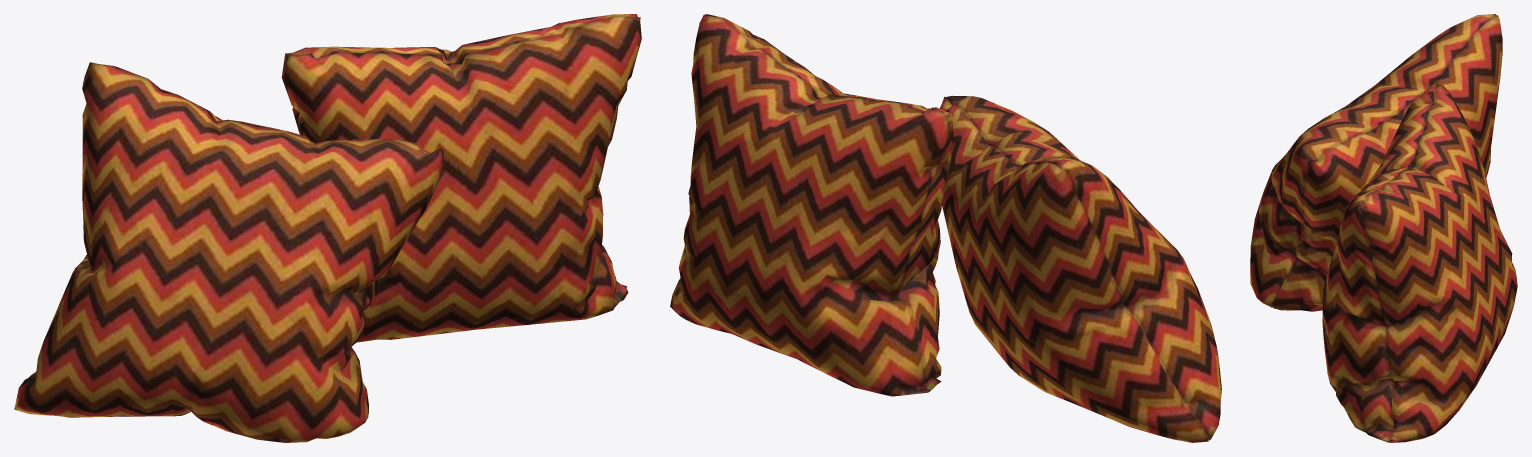
File: throw_pillows_01.glb
3 views of the same model, side by side, from view 1: azimuth 30°, elevation 25°; view 2: azimuth 150°, elevation 25°; view 3: azimuth 270°, elevation 25° (orthographic). The views are drawn at different scales.
Parts seen in each view (by area): view 1: throw_pillows_01_pillow01, throw_pillows_01_pillow02; view 2: throw_pillows_01_pillow02, throw_pillows_01_pillow01; view 3: throw_pillows_01_pillow02, throw_pillows_01_pillow01.
Part boxes in pixels (left/top/right/bottom): throw_pillows_01_pillow01: left=14, top=62, right=443, bottom=442; throw_pillows_01_pillow02: left=281, top=14, right=641, bottom=342; throw_pillows_01_pillow02: left=670, top=14, right=953, bottom=396; throw_pillows_01_pillow01: left=940, top=95, right=1221, bottom=442; throw_pillows_01_pillow02: left=1322, top=84, right=1517, bottom=442; throw_pillows_01_pillow01: left=1250, top=14, right=1502, bottom=311.
Bounding box in the file's own units: 0.9401 × 0.4499 × 0.4504.
1 material, 1 textured.
